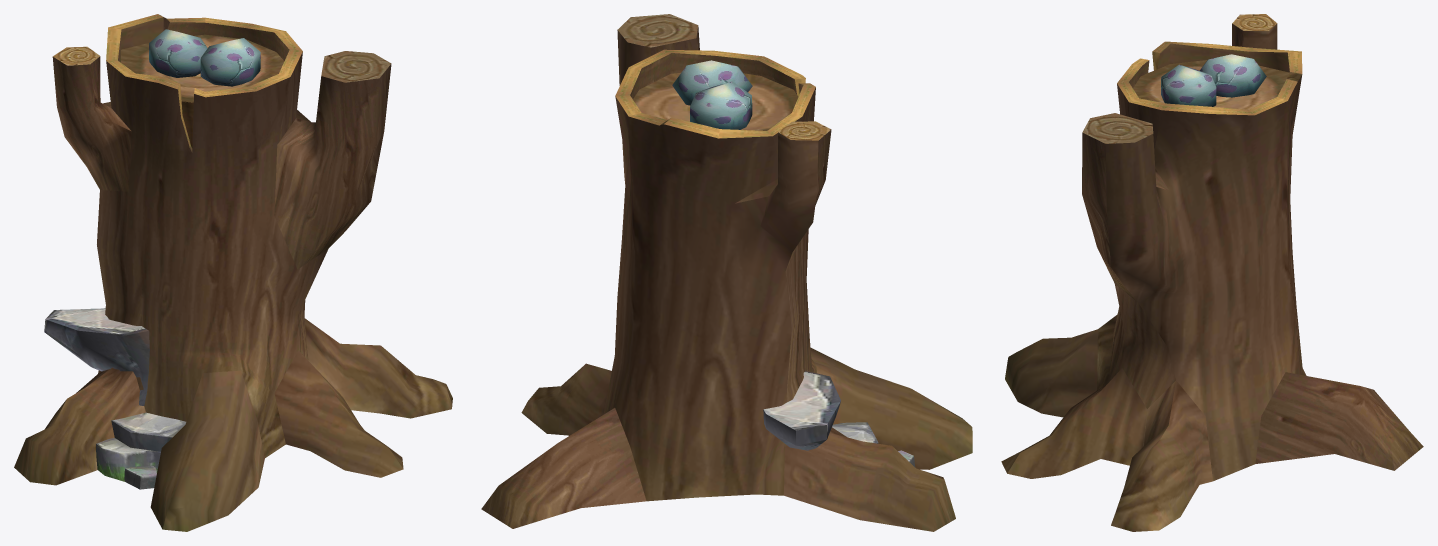
The model's file is map_112_shu_5.fbx.
3 views of the same model, side by side, from view 1: azimuth 30°, elevation 25°; view 2: azimuth 150°, elevation 25°; view 3: azimuth 270°, elevation 25° (orthographic). The views are drawn at different scales.
Visible parts, largest first — view 1: map_112_shu_5; view 2: map_112_shu_5; view 3: map_112_shu_5.
Boxes of the visible parts, left/top/right/bottom form: map_112_shu_5: left=14, top=14, right=452, bottom=531; map_112_shu_5: left=481, top=14, right=972, bottom=531; map_112_shu_5: left=1001, top=14, right=1423, bottom=531.
Bounding box in the file's own units: 1.4 × 1.28 × 1.3.
